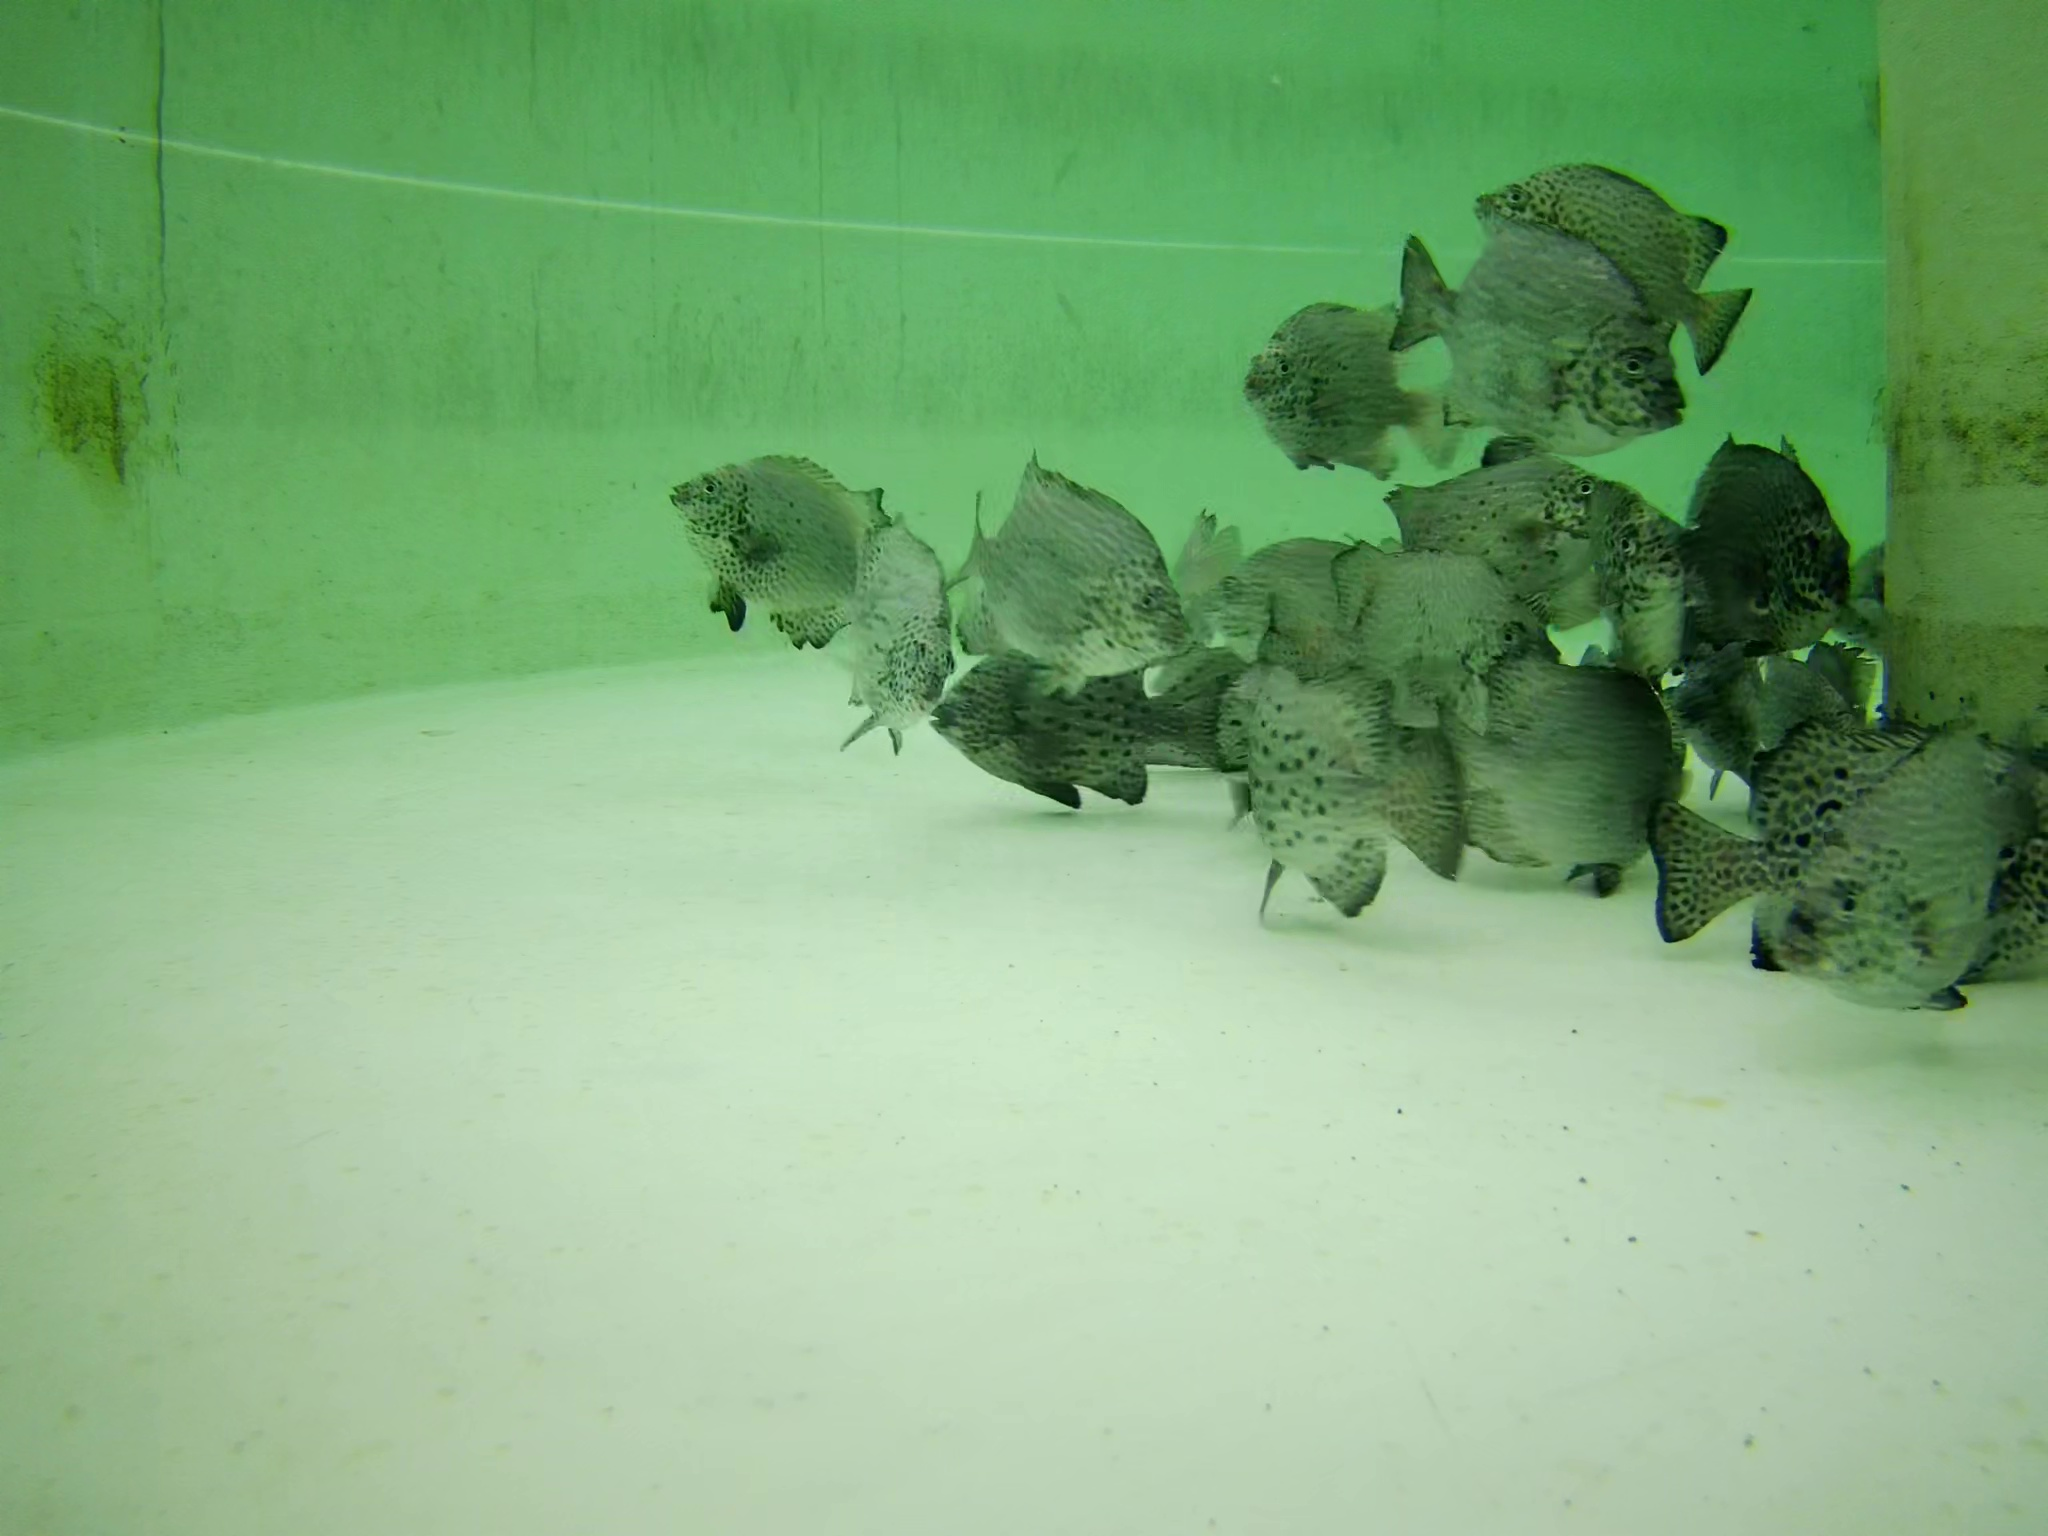fish: (1622, 729, 2030, 995), (1387, 219, 1690, 445), (1463, 155, 1759, 378), (1750, 721, 2048, 941), (1237, 660, 1453, 920), (951, 447, 1187, 666), (1447, 670, 1690, 873), (1243, 271, 1482, 478), (1253, 544, 1559, 700), (937, 637, 1161, 821), (655, 444, 890, 613), (1682, 432, 1854, 639), (1393, 466, 1625, 611), (1188, 526, 1382, 666), (840, 513, 956, 745), (1674, 666, 1859, 773), (1608, 499, 1688, 678)
